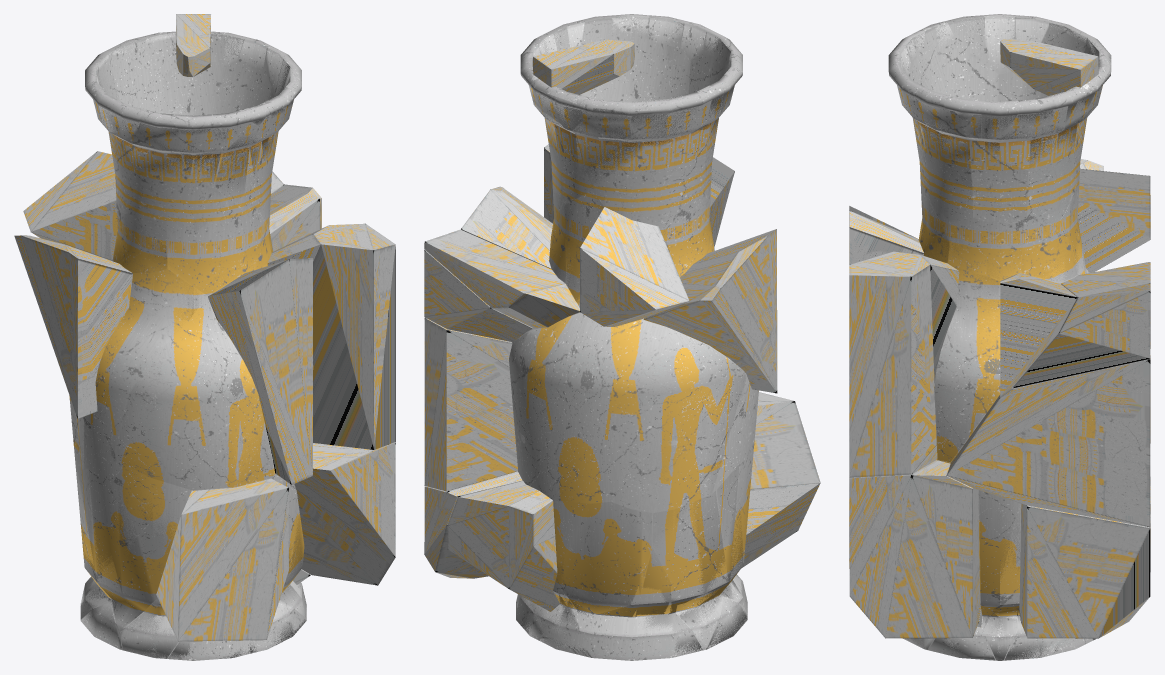
3 renders of one model, left to right at view 1: azimuth 30°, elevation 25°; view 2: azimuth 150°, elevation 25°; view 3: azimuth 270°, elevation 25°, orthographic. The views are drawn at different scales.
Parts seen in each view (by area): view 1: vase_A_S3, vase_A_S3_cell.026, vase_A_S3_cell.068, vase_A_S3_cell.029, vase_A_S3_cell.063, vase_A_S3_cell.035, vase_A_S3_cell.079, vase_A_S3_cell.003, vase_A_S3_cell.027, vase_A_S3_cell.083, vase_A_S3_cell.077, vase_A_S3_cell.038 (+24 smaller); view 2: vase_A_S3, vase_A_S3_cell.080, vase_A_S3_cell.054, vase_A_S3_cell.079, vase_A_S3_cell.008, vase_A_S3_cell.027, vase_A_S3_cell.051, vase_A_S3_cell.068, vase_A_S3_cell.056, vase_A_S3_cell.012, vase_A_S3_cell.049, vase_A_S3_cell.037 (+25 smaller); view 3: vase_A_S3, vase_A_S3_cell.054, vase_A_S3_cell.063, vase_A_S3_cell.026, vase_A_S3_cell.062, vase_A_S3_cell.071, vase_A_S3_cell.037, vase_A_S3_cell.027, vase_A_S3_cell.081, vase_A_S3_cell.031, vase_A_S3_cell.044, vase_A_S3_cell.056 (+26 smaller).
Boxes of the visible parts, x1,y1,x2,y2 form: vase_A_S3: [69, 31, 313, 660]; vase_A_S3_cell.026: [267, 223, 395, 449]; vase_A_S3_cell.068: [156, 478, 288, 641]; vase_A_S3_cell.029: [208, 258, 312, 484]; vase_A_S3_cell.063: [294, 442, 395, 585]; vase_A_S3_cell.035: [116, 308, 273, 490]; vase_A_S3_cell.079: [14, 235, 132, 418]; vase_A_S3_cell.003: [79, 463, 176, 631]; vase_A_S3_cell.027: [23, 151, 117, 260]; vase_A_S3_cell.083: [167, 207, 243, 295]; vase_A_S3_cell.077: [130, 165, 229, 245]; vase_A_S3_cell.038: [96, 273, 153, 452]; vase_A_S3: [509, 15, 758, 660]; vase_A_S3_cell.080: [609, 320, 746, 498]; vase_A_S3_cell.054: [424, 317, 517, 491]; vase_A_S3_cell.079: [643, 229, 777, 393]; vase_A_S3_cell.008: [447, 480, 559, 611]; vase_A_S3_cell.027: [580, 207, 689, 326]; vase_A_S3_cell.051: [554, 500, 652, 635]; vase_A_S3_cell.068: [742, 392, 820, 567]; vase_A_S3_cell.056: [424, 229, 579, 328]; vase_A_S3_cell.012: [534, 312, 613, 397]; vase_A_S3_cell.049: [652, 491, 725, 649]; vase_A_S3_cell.037: [424, 250, 532, 342]; vase_A_S3: [888, 15, 1111, 660]; vase_A_S3_cell.054: [947, 355, 1150, 527]; vase_A_S3_cell.063: [849, 460, 980, 638]; vase_A_S3_cell.026: [849, 251, 959, 477]; vase_A_S3_cell.062: [1018, 503, 1150, 638]; vase_A_S3_cell.071: [935, 272, 999, 461]; vase_A_S3_cell.037: [1013, 292, 1150, 387]; vase_A_S3_cell.027: [1077, 168, 1150, 272]; vase_A_S3_cell.081: [1000, 273, 1077, 396]; vase_A_S3_cell.031: [1000, 39, 1098, 95]; vase_A_S3_cell.044: [979, 490, 1020, 610]; vase_A_S3_cell.056: [1057, 262, 1150, 335].
Size of the model in its own units: 77.21 by 159 by 76.19.
